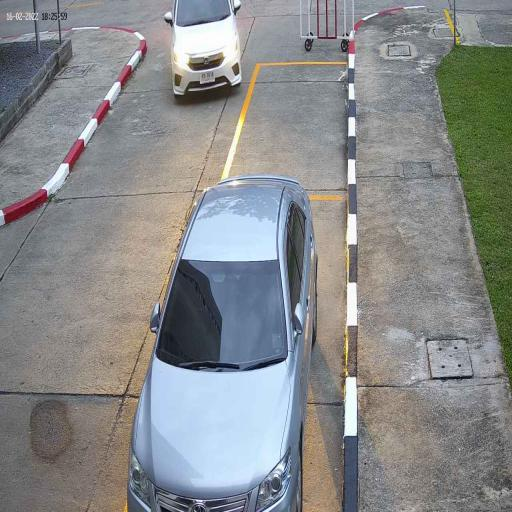car: (126, 172, 320, 512), (169, 0, 243, 100)
